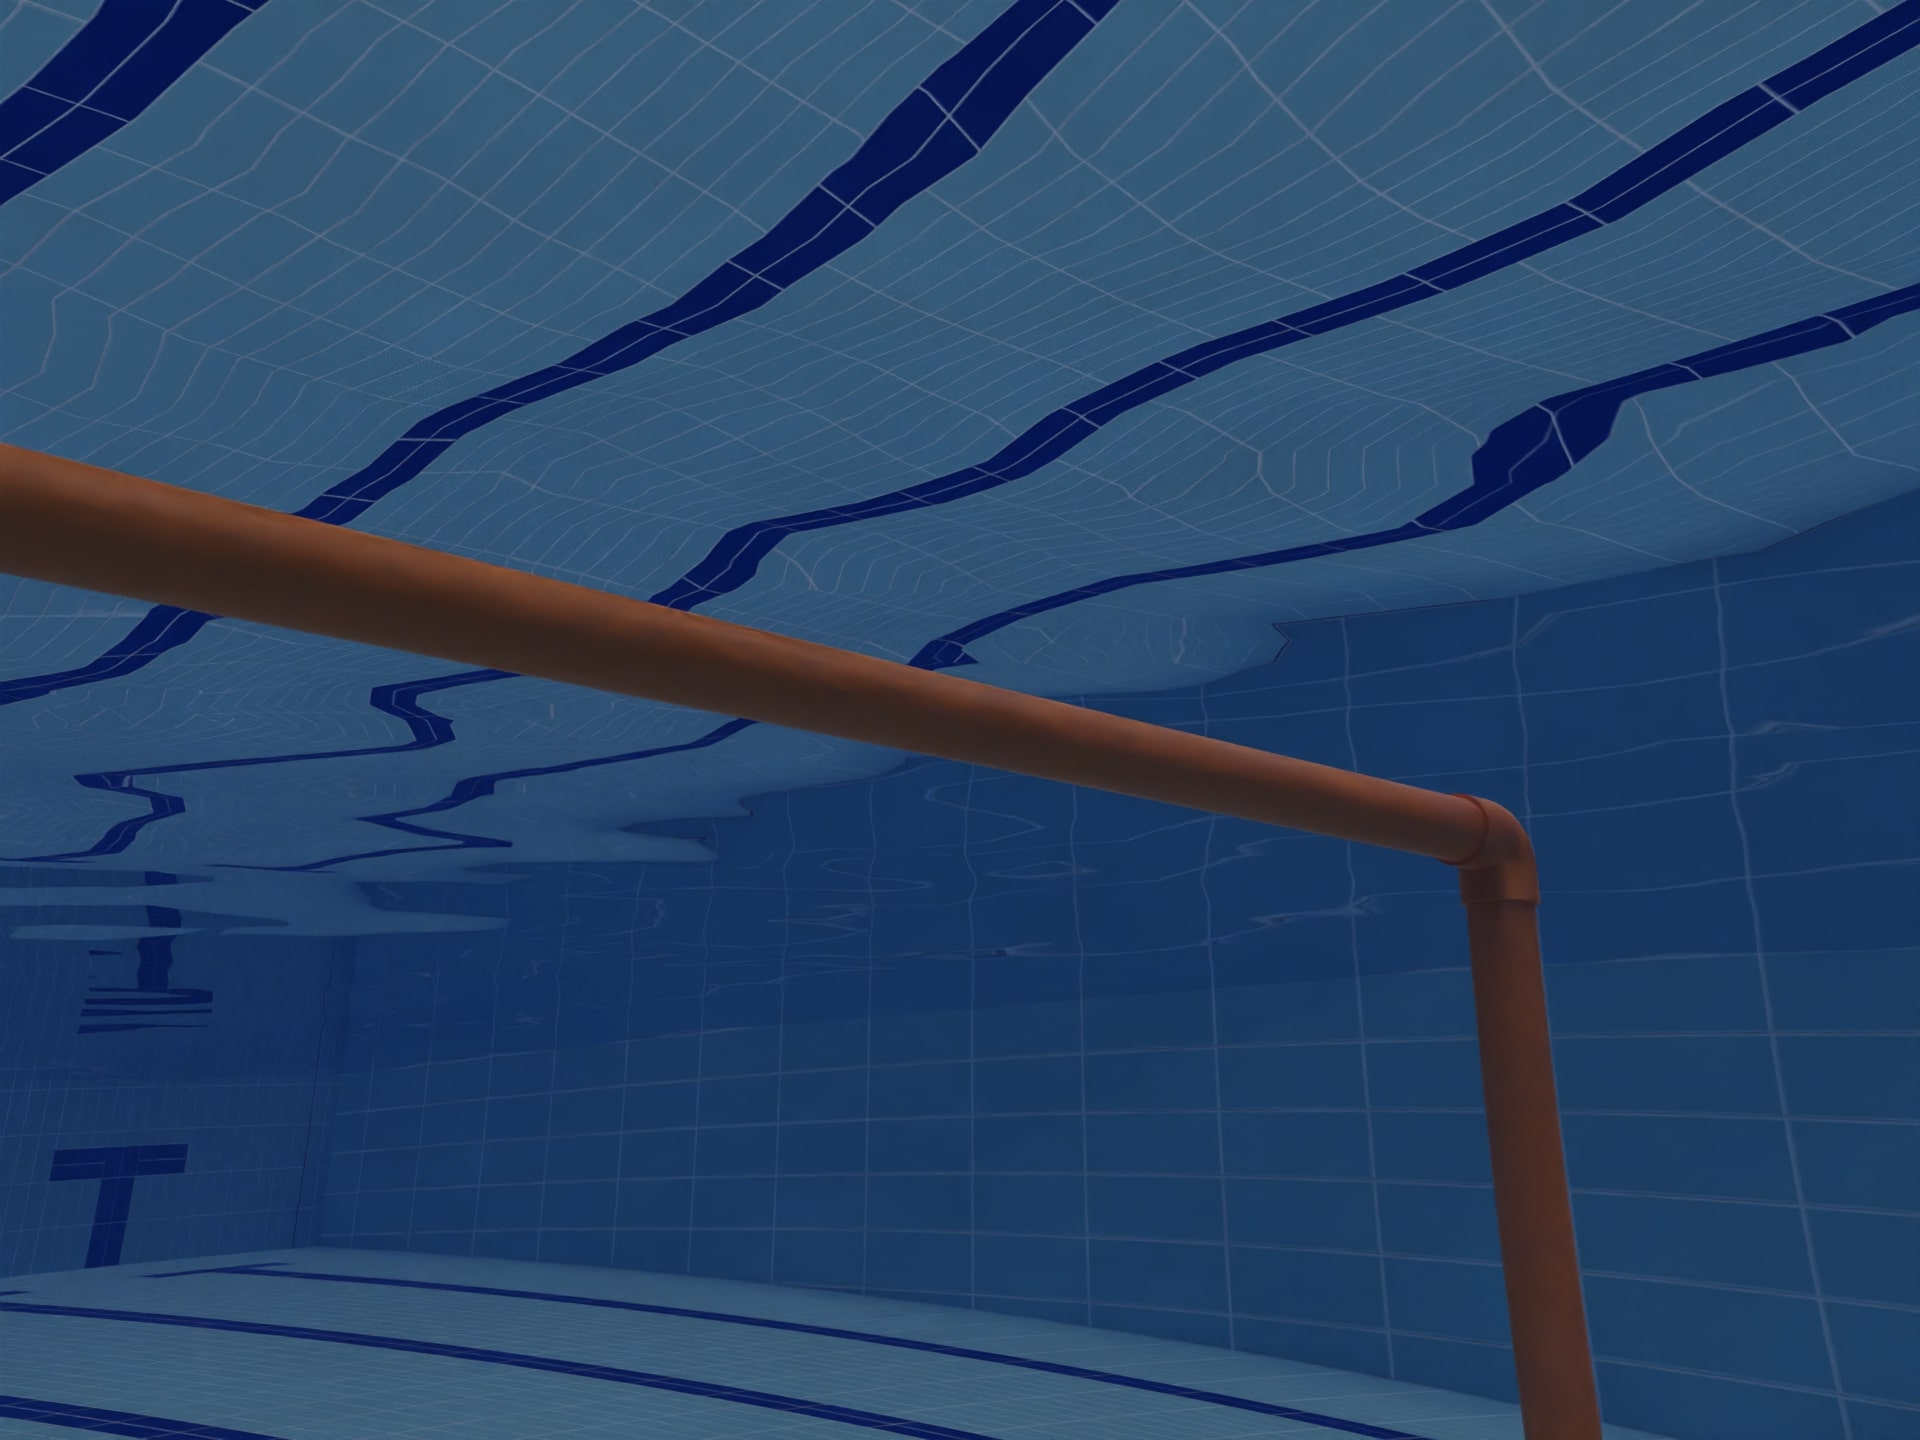gate: (17, 405, 1654, 1440)
